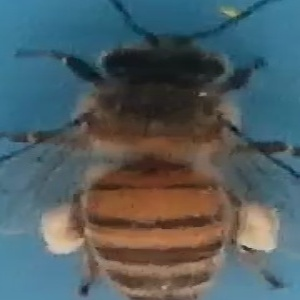bee: (17, 5, 292, 299)
